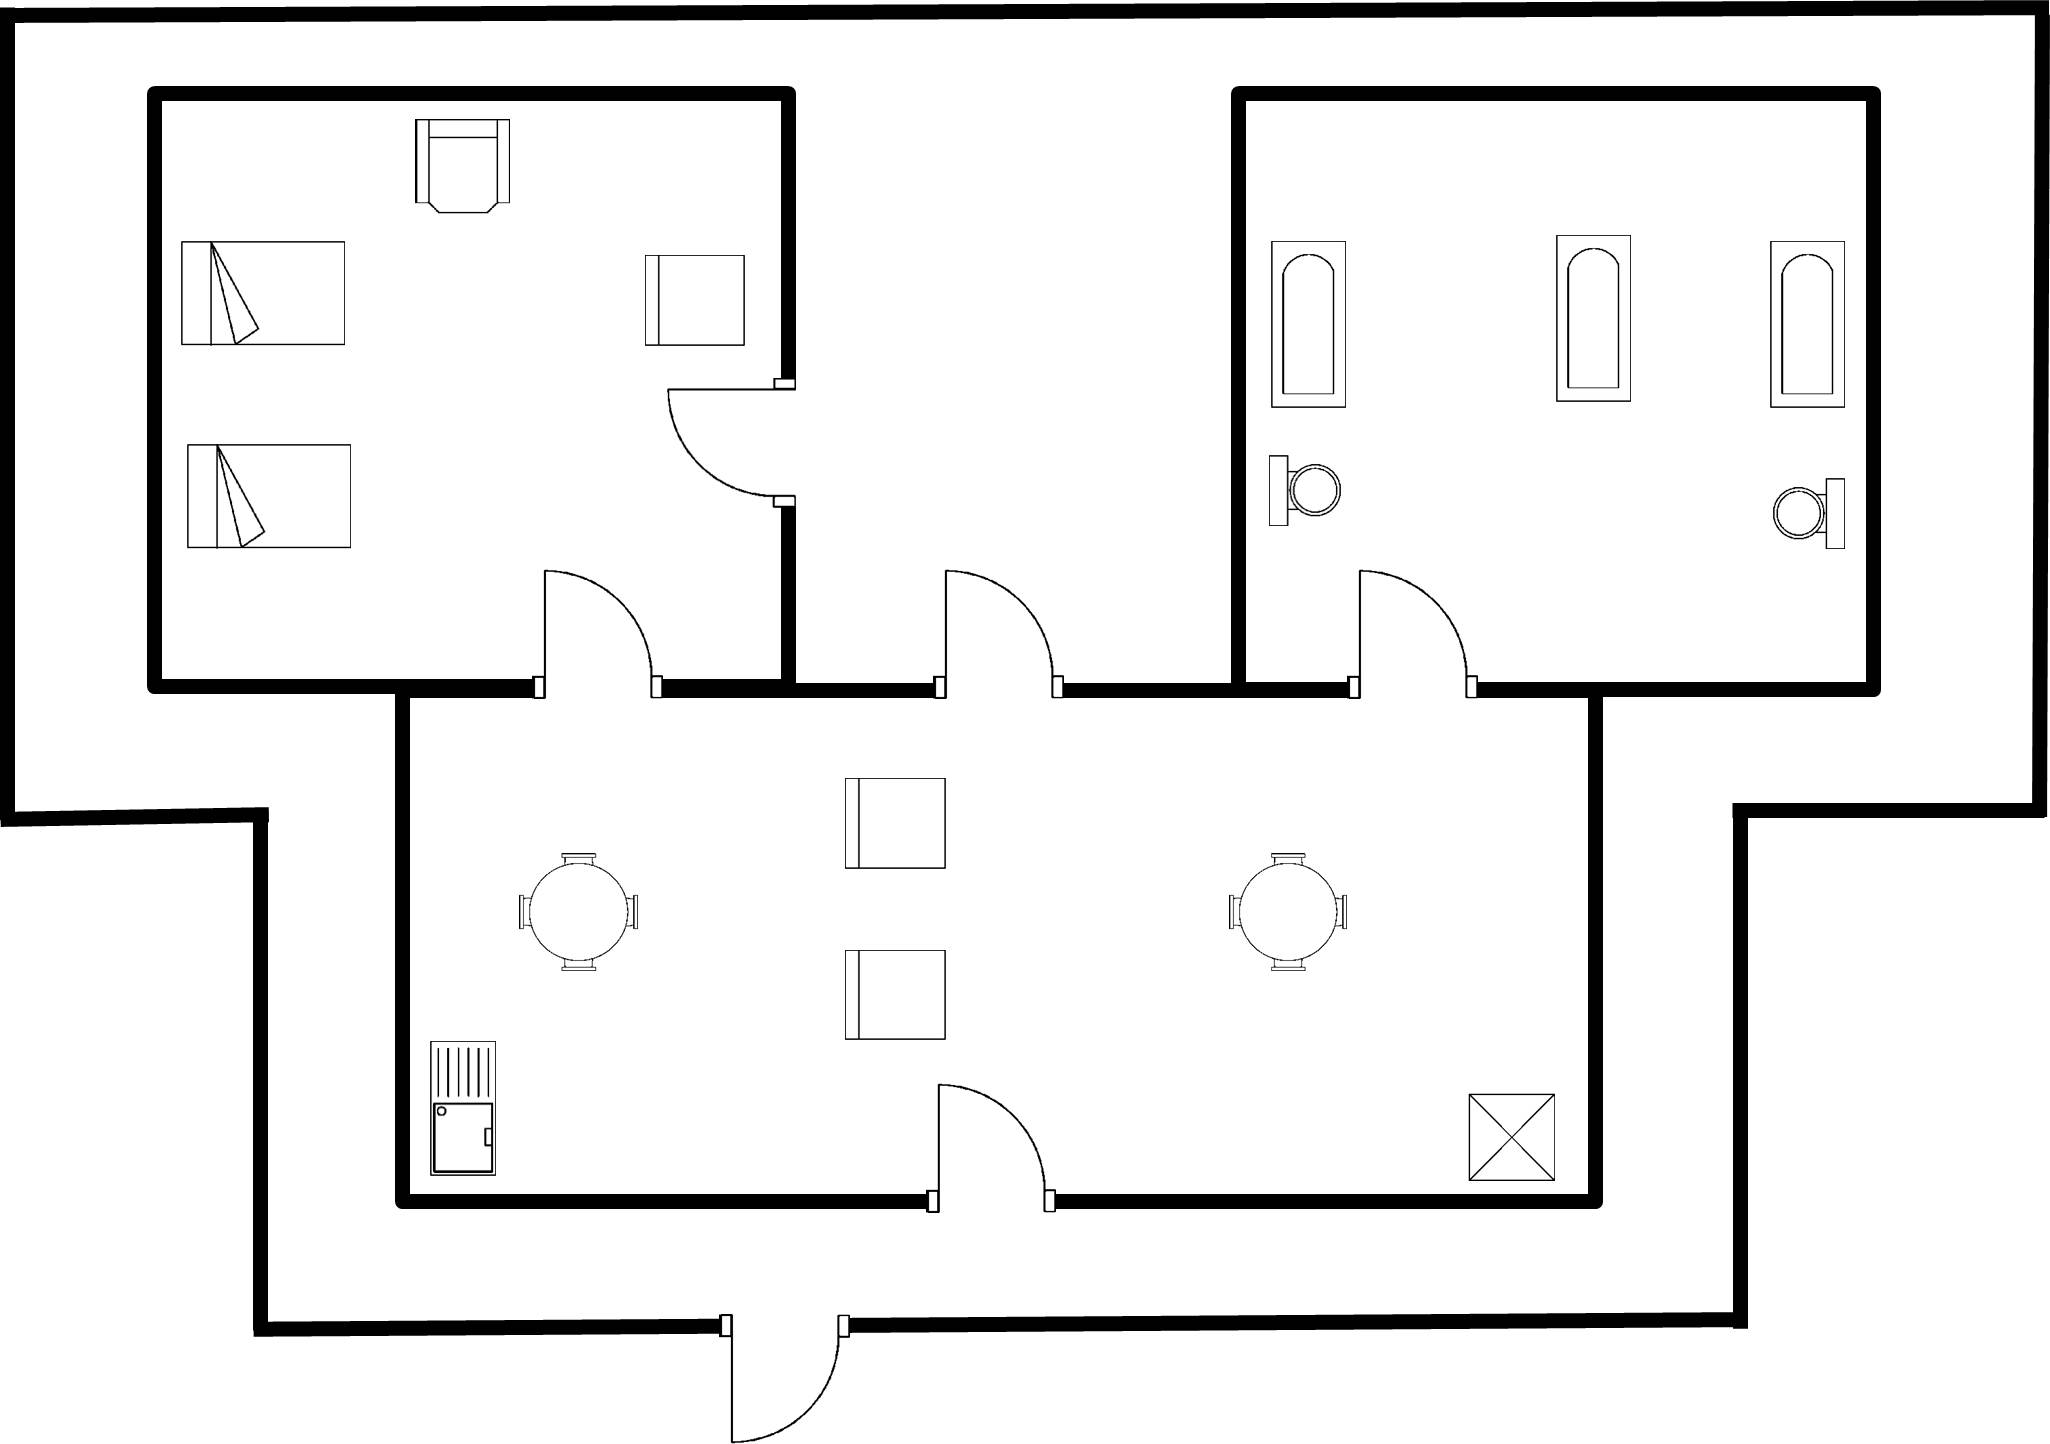armchair: (402, 107, 527, 223)
bed: (171, 231, 368, 363), (176, 434, 361, 560)
coffee_table: (1460, 1084, 1562, 1194)
large_sink: (1760, 466, 1858, 567), (1260, 448, 1345, 538)
round_table: (507, 839, 651, 981), (1214, 842, 1357, 984)
sink: (421, 1032, 508, 1185)
small_sofa: (636, 242, 757, 364), (830, 939, 958, 1050), (832, 769, 957, 879)
tub: (1258, 228, 1358, 420), (1542, 225, 1640, 416), (1758, 231, 1860, 416)
